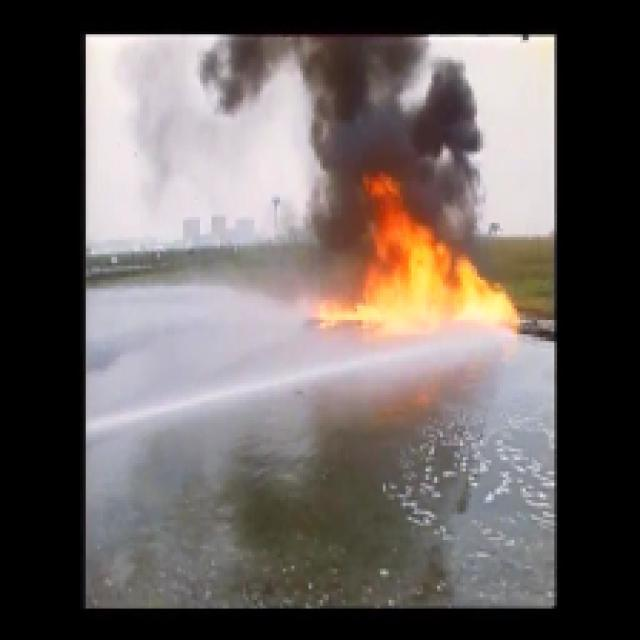Fire: (364, 234, 514, 329)
Smoke: (314, 42, 468, 214)
